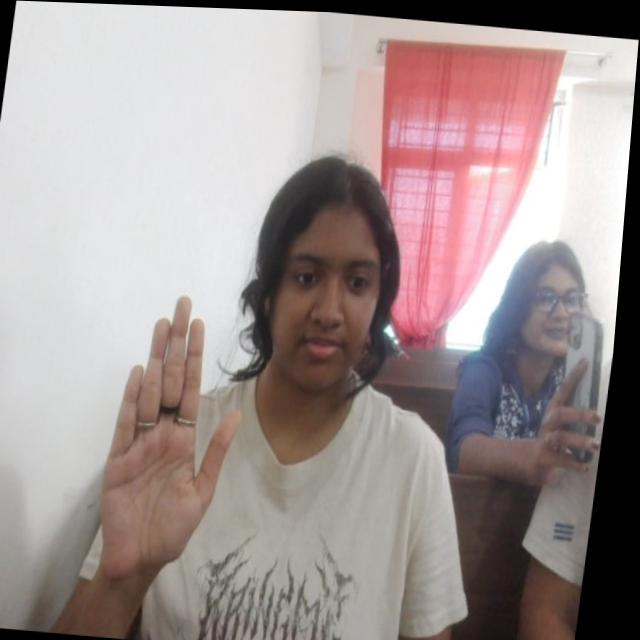hello: (97, 286, 263, 601)
